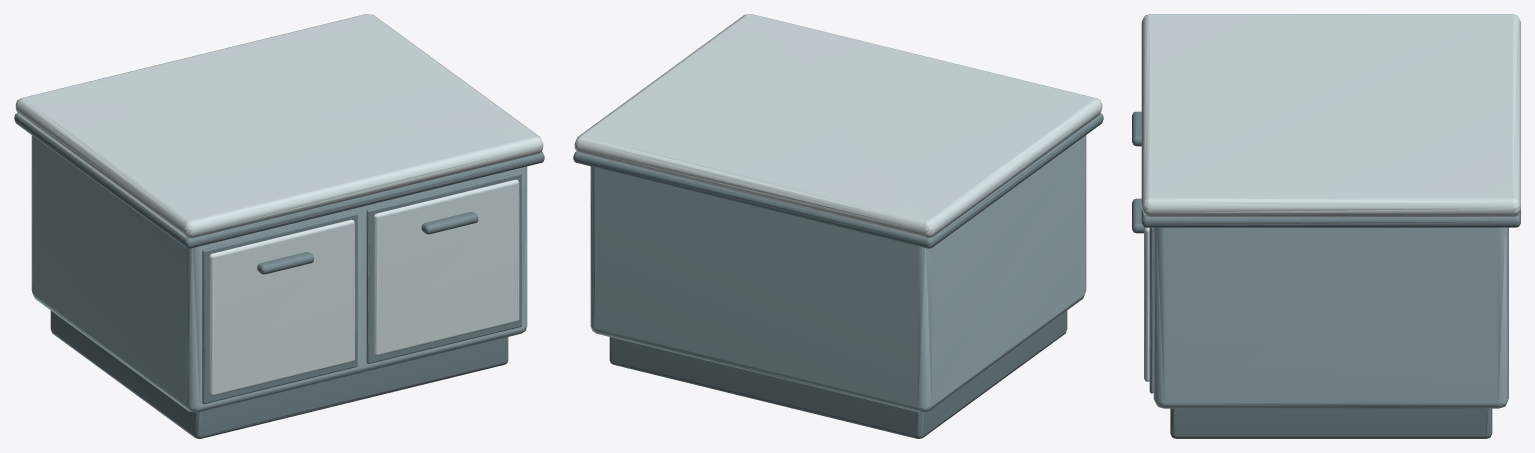
File: CounterSteel.fbx
The picture shows the model from 3 angles, left to right: view 1: azimuth 30°, elevation 25°; view 2: azimuth 150°, elevation 25°; view 3: azimuth 270°, elevation 25°; orthographic projection. The views are drawn at different scales.
Parts seen in each view (by area): view 1: CounterSteel.001; view 2: CounterSteel.001; view 3: CounterSteel.001.
Part boxes in pixels (x1=…): CounterSteel.001: x1=14, y1=14, x2=544, y2=438; CounterSteel.001: x1=573, y1=14, x2=1103, y2=438; CounterSteel.001: x1=1132, y1=14, x2=1520, y2=438.
Bounding box in the file's own units: 1.9 × 1.18 × 1.64.
